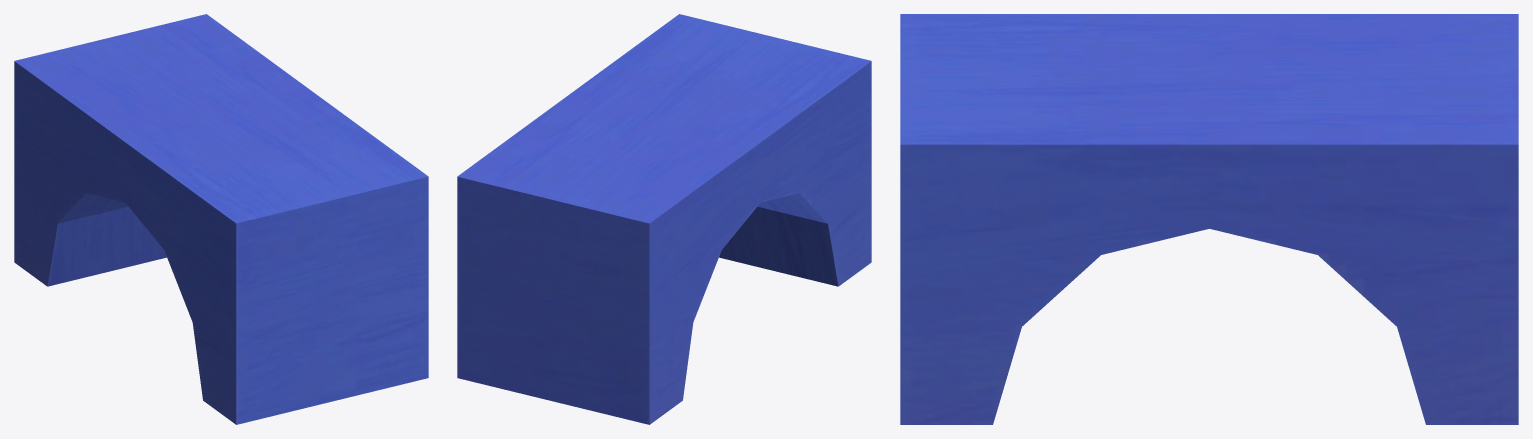
File: BridgeBlock_Blue.fbx
The picture shows the model from 3 angles, left to right: view 1: azimuth 30°, elevation 25°; view 2: azimuth 150°, elevation 25°; view 3: azimuth 270°, elevation 25°; orthographic projection. The views are drawn at different scales.
Parts seen in each view (by area): view 1: Cube.037; view 2: Cube.037; view 3: Cube.037.
Part boxes in pixels (x1,y1,x2,y2): Cube.037: [14, 14, 428, 424]; Cube.037: [457, 14, 871, 424]; Cube.037: [900, 14, 1518, 424].
Size of the model in its own units: 100 by 100 by 200.
